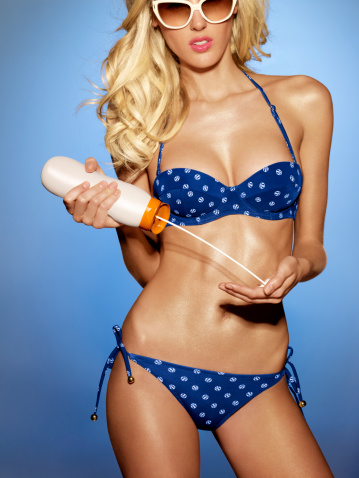em pe: (38, 0, 347, 339)
